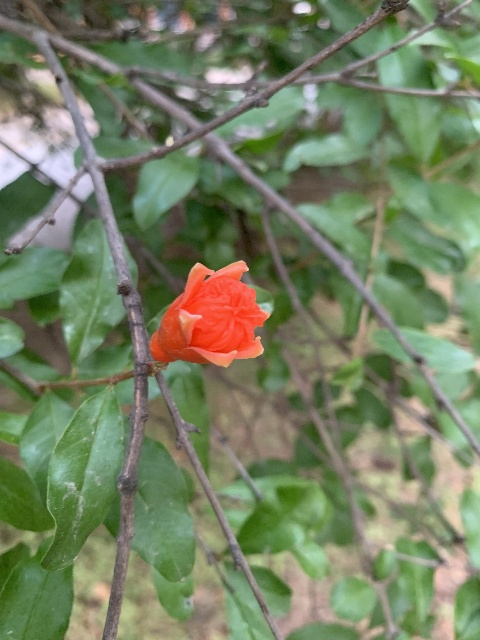flower: (148, 260, 270, 367)
